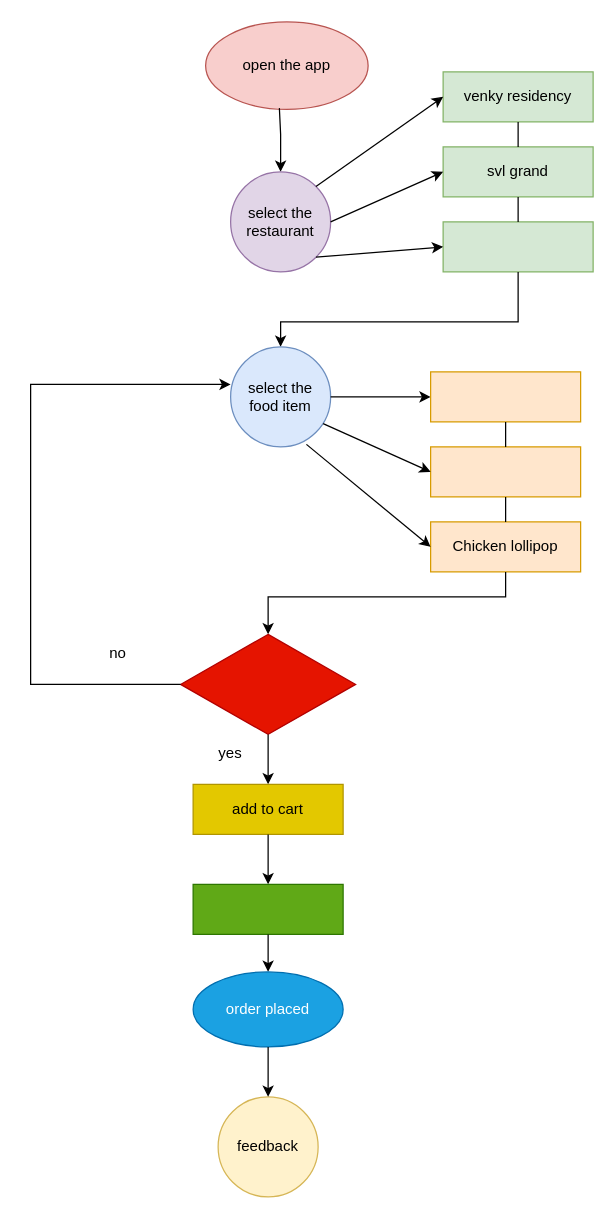
The diagram is 615 pixels wide and 1219 high, and some of its shapes have lost their labels. The centre of each missing label's shape, as x and y in pixels:
"Briyani" goes at [505,396].
"Fried rice" goes at [505,471].
"if the food item available" goes at [267,683].
"processed for payment" goes at [267,908].
"yati restaurant" goes at [517,246].
